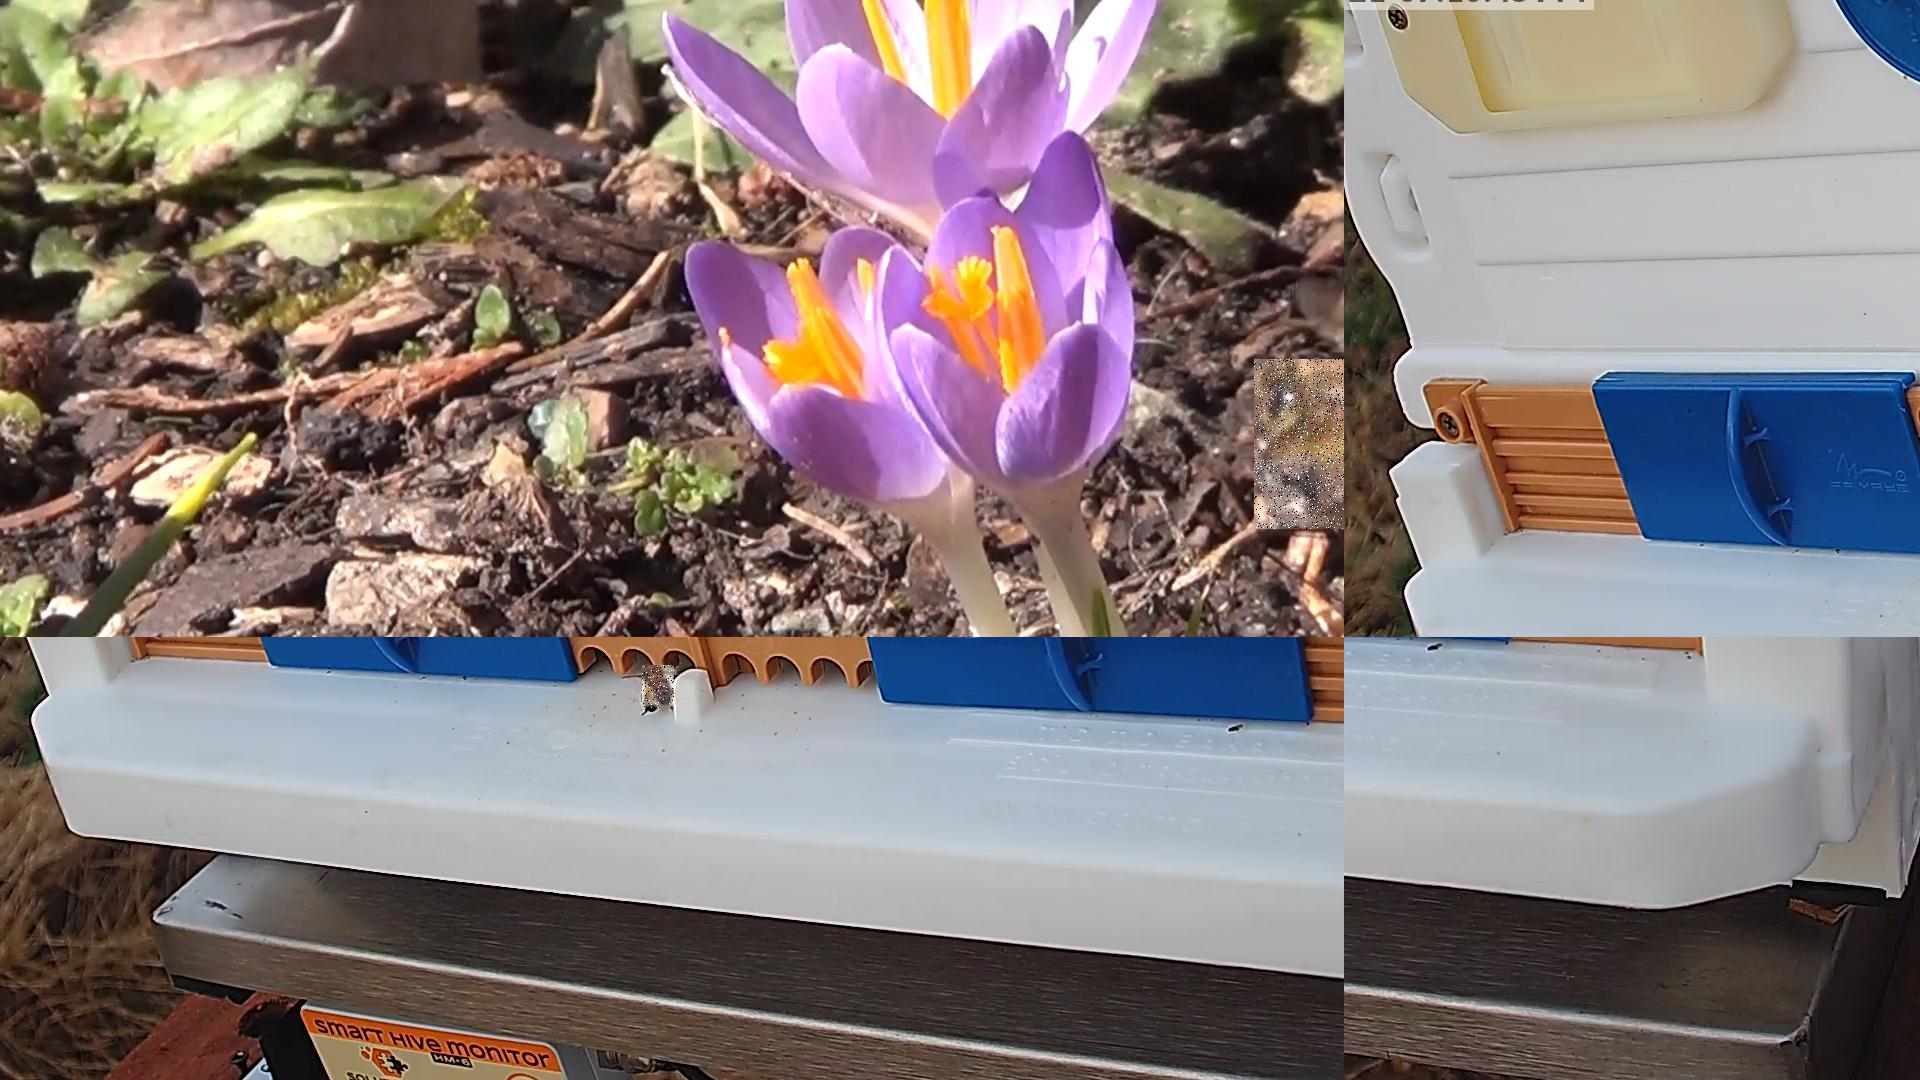pollenbee: (1254, 359, 1342, 531), (642, 666, 675, 709)
